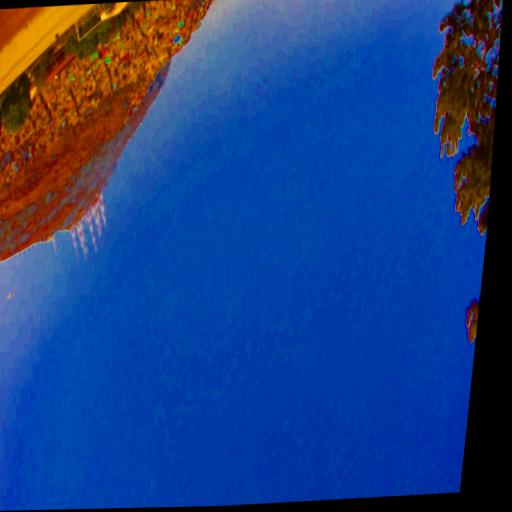drones: (7, 288, 16, 300)
